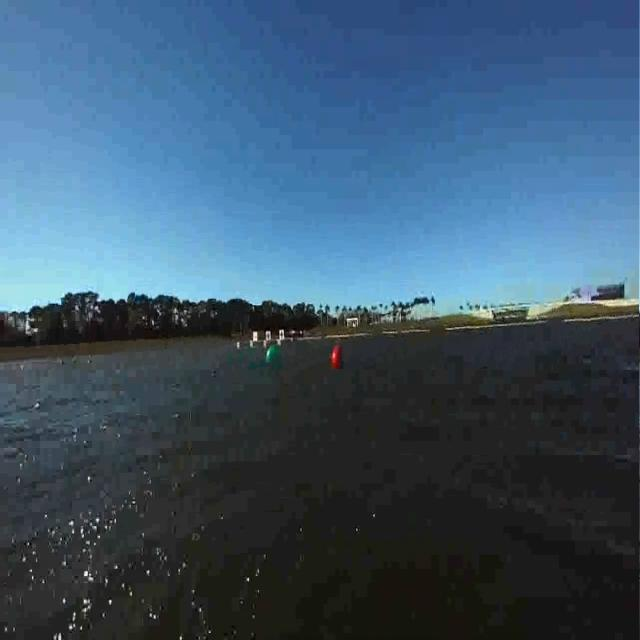green-buoy: (262, 342, 284, 373)
red-buoy: (327, 342, 344, 370)
